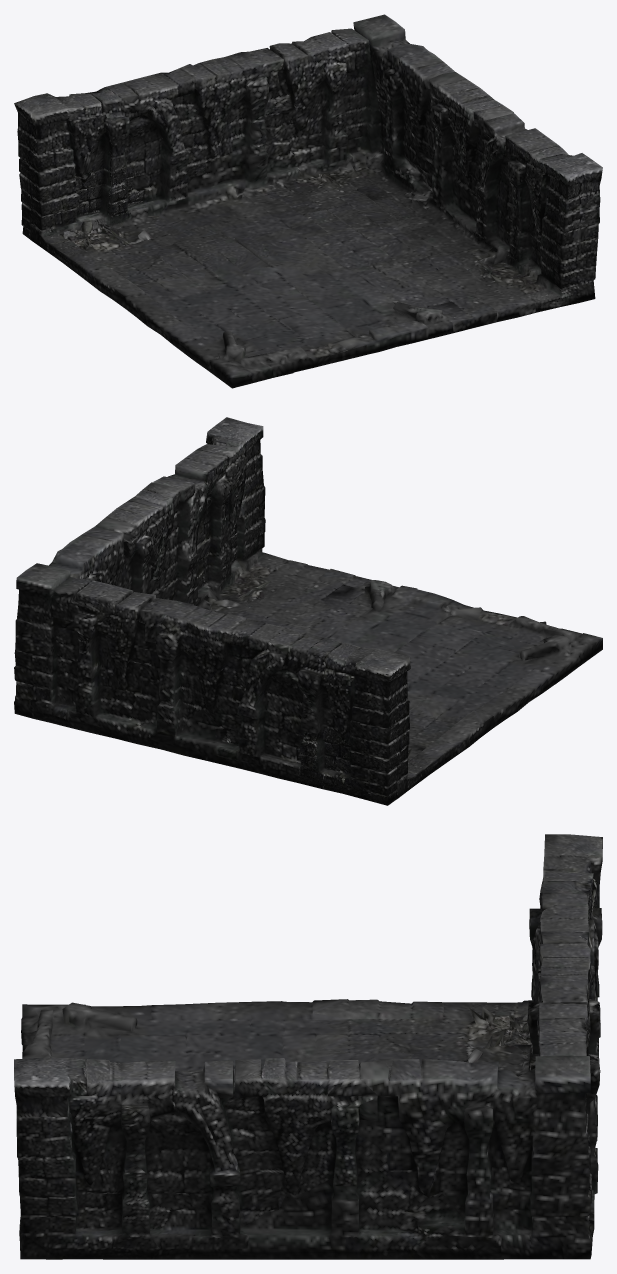
File: tile.corner.4.glb
3 renders of one model, top to bottom at view 1: azimuth 30°, elevation 25°; view 2: azimuth 150°, elevation 25°; view 3: azimuth 270°, elevation 25°, orthographic. The views are drawn at different scales.
Visible parts, largest first — view 1: tripo_node_10bd92af-8104-42c8-9bad-ba51499054a3; view 2: tripo_node_10bd92af-8104-42c8-9bad-ba51499054a3; view 3: tripo_node_10bd92af-8104-42c8-9bad-ba51499054a3.
Boxes of the visible parts, bbox=[...] form: tripo_node_10bd92af-8104-42c8-9bad-ba51499054a3: bbox=[14, 14, 602, 388]; tripo_node_10bd92af-8104-42c8-9bad-ba51499054a3: bbox=[14, 417, 602, 805]; tripo_node_10bd92af-8104-42c8-9bad-ba51499054a3: bbox=[14, 834, 602, 1259].
Bounding box in the file's own units: 0.9778 × 0.3376 × 0.9773.
Materials: 1 (1 with a texture image).
